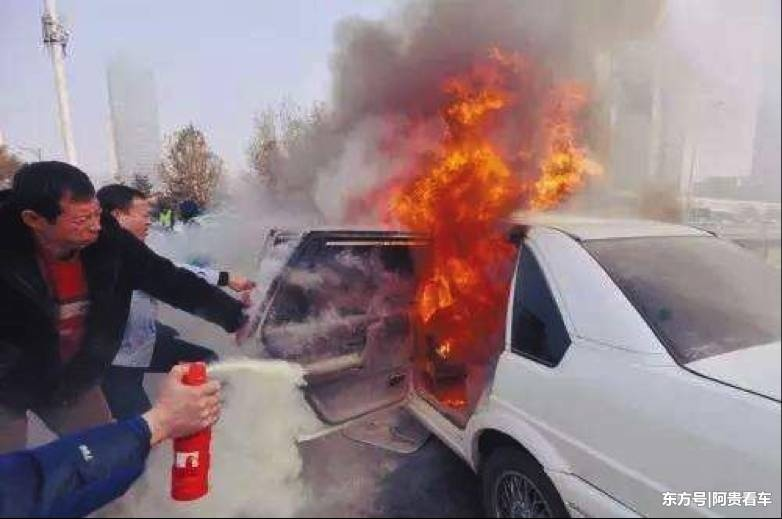fire: (382, 46, 591, 360)
